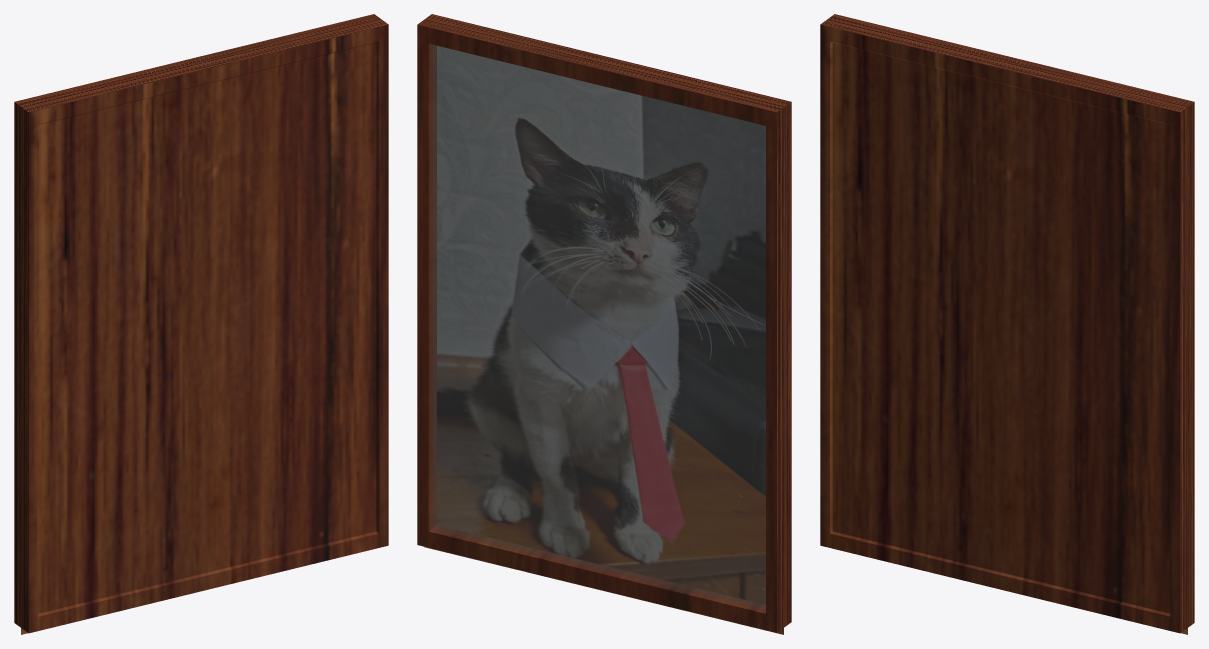
Rendered from PictureFrame.fbx.
3 views of the same model, side by side, from view 1: azimuth 30°, elevation 25°; view 2: azimuth 150°, elevation 25°; view 3: azimuth 330°, elevation 25° (orthographic).
Visible parts, largest first — view 1: pictureFrame; view 2: glassPane, Picture, pictureFrame; view 3: pictureFrame.
Boxes of the visible parts, bbox=[...] form: pictureFrame: bbox=[14, 14, 388, 633]; glassPane: bbox=[430, 44, 765, 611]; Picture: bbox=[424, 46, 783, 634]; pictureFrame: bbox=[417, 14, 791, 632]; pictureFrame: bbox=[820, 14, 1194, 633].
Size of the model in its own units: 93.5 by 131 by 6.53.
